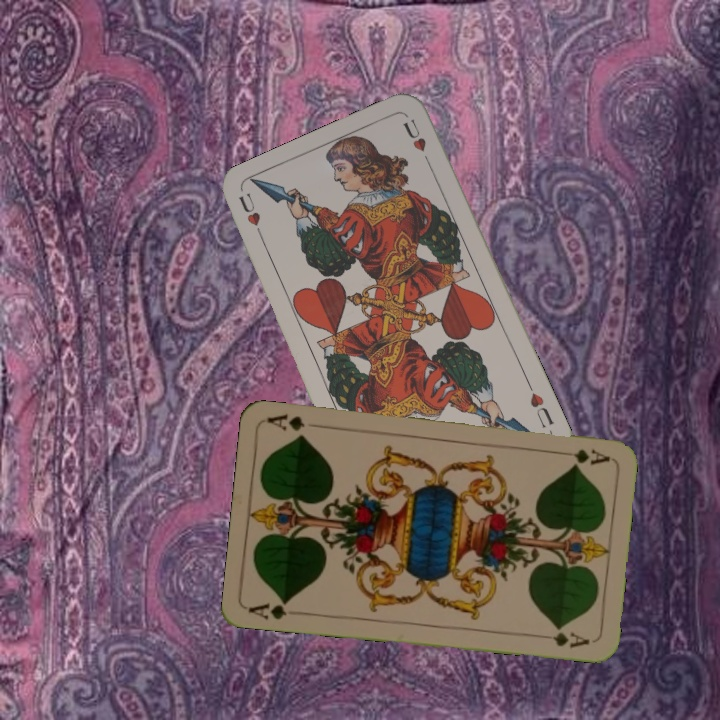GA: (553, 444, 612, 468), (246, 596, 292, 622)
HU: (235, 188, 268, 246), (523, 378, 557, 431)
